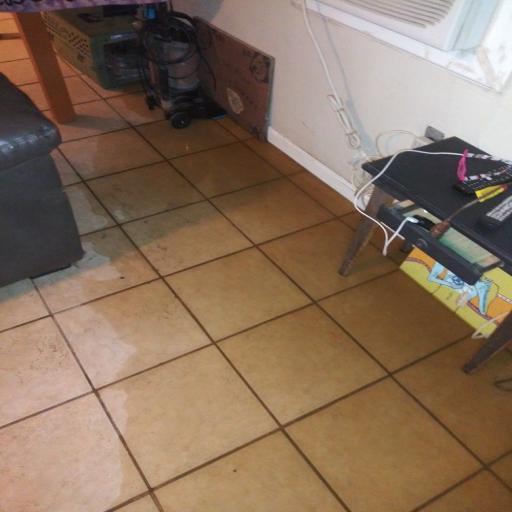wet_floor: (0, 95, 511, 511)
